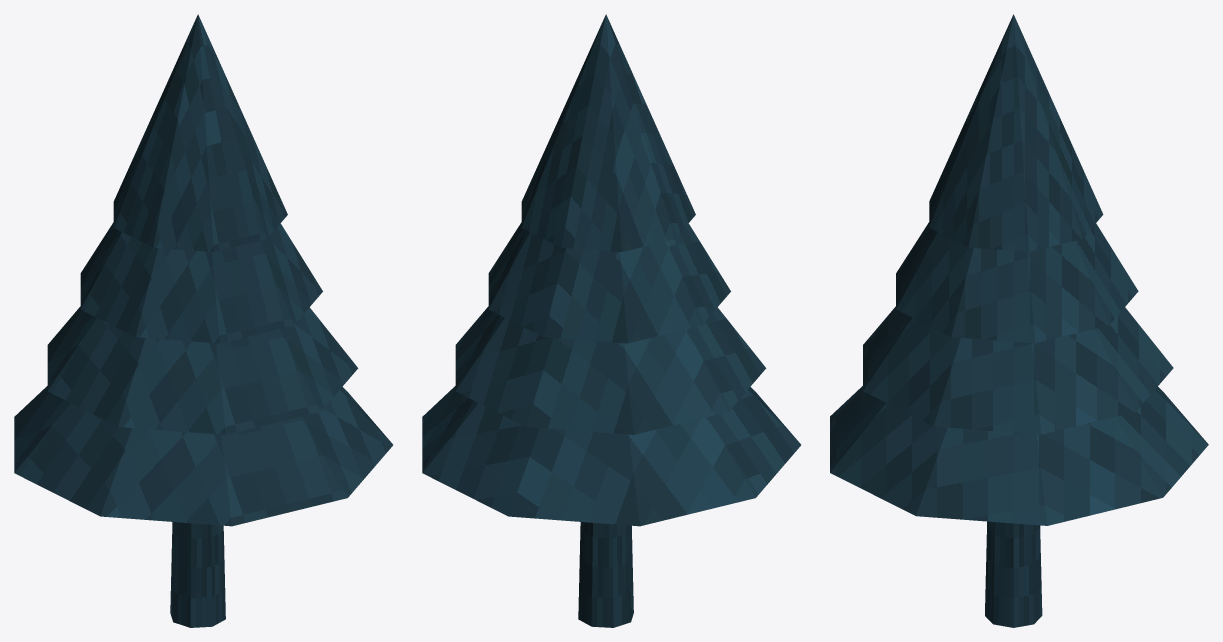
The model's file is pine_10.glb.
The picture shows the model from 3 angles, left to right: view 1: azimuth 30°, elevation 25°; view 2: azimuth 150°, elevation 25°; view 3: azimuth 270°, elevation 25°; orthographic projection.
Visible parts, largest first — view 1: Needles, Needles.001, Needles.003, Needles.002, Trunk; view 2: Needles, Needles.001, Needles.003, Needles.002, Trunk; view 3: Needles, Needles.001, Needles.003, Needles.002, Trunk.
Boxes of the visible parts, bbox=[...] form: Needles: bbox=[14, 386, 392, 526]; Needles.001: bbox=[47, 306, 358, 434]; Needles.003: bbox=[113, 14, 287, 251]; Needles.002: bbox=[80, 222, 322, 343]; Trunk: bbox=[170, 522, 225, 627]; Needles: bbox=[422, 386, 800, 526]; Needles.001: bbox=[455, 306, 766, 434]; Needles.003: bbox=[521, 14, 695, 251]; Needles.002: bbox=[488, 222, 730, 343]; Trunk: bbox=[578, 522, 633, 627]; Needles: bbox=[830, 386, 1208, 525]; Needles.001: bbox=[863, 306, 1173, 434]; Needles.003: bbox=[929, 14, 1103, 251]; Needles.002: bbox=[896, 222, 1138, 343]; Trunk: bbox=[985, 521, 1042, 627].
Size of the model in its own units: 2.68 by 4.62 by 2.63.
Materials: 1 (1 with a texture image).
